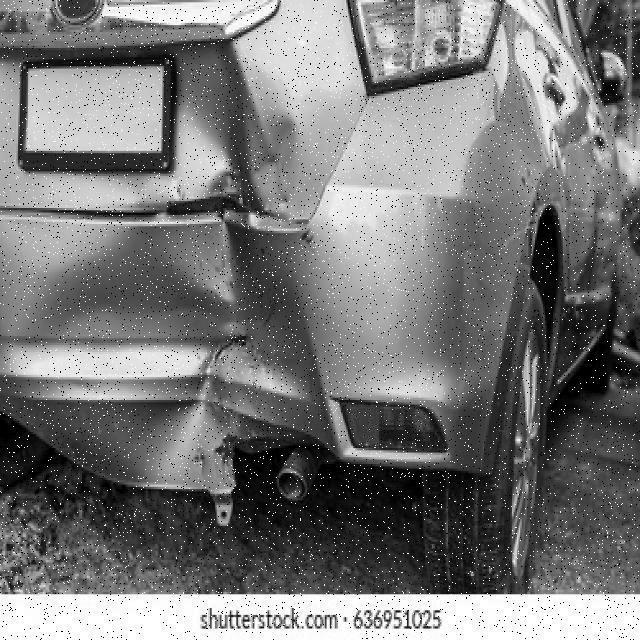rear-bumper-dent: (0, 190, 540, 494)
